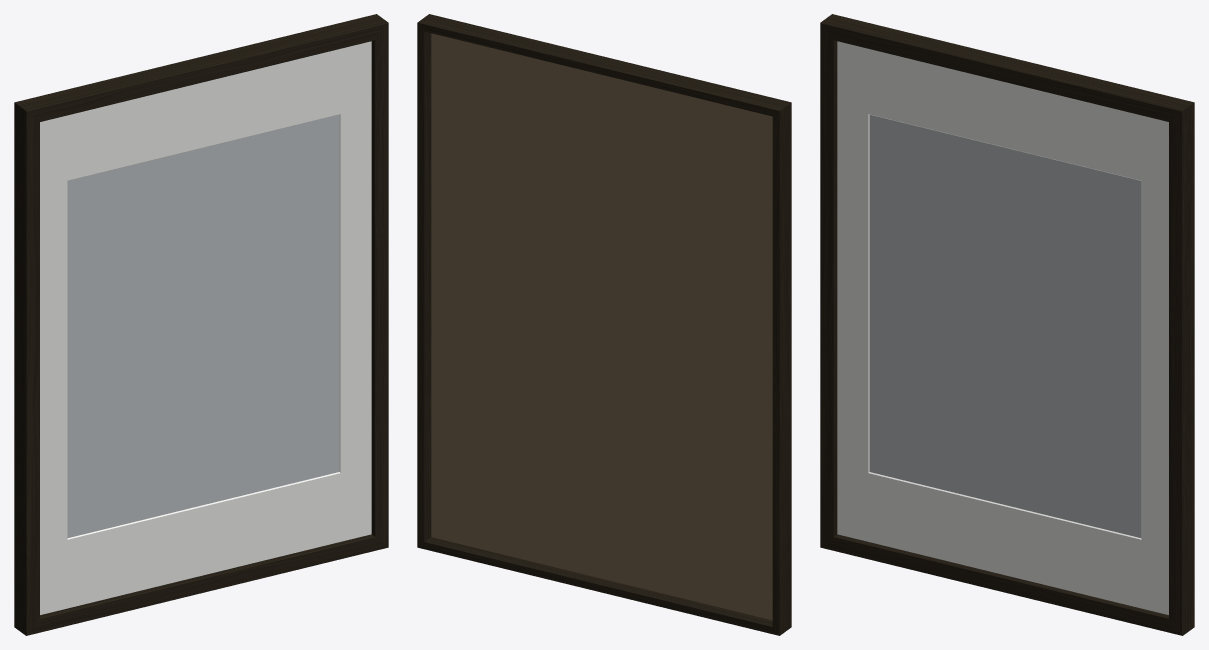
File: small_black_frame.glb
3 views of the same model, side by side, from view 1: azimuth 30°, elevation 25°; view 2: azimuth 150°, elevation 25°; view 3: azimuth 330°, elevation 25° (orthographic).
Parts seen in each view (by area): view 1: Grey_print_40x50cm, White_mat_50x70_with_39x49_clear_aperture, Left_mitred_oak_rail, Top_mitred_oak_rail, Right_mitred_oak_rail, Bottom_mitred_oak_rail; view 2: Plain_recessed_backing_assumed, Left_mitred_oak_rail, Right_mitred_oak_rail, Top_mitred_oak_rail, Bottom_mitred_oak_rail; view 3: Grey_print_40x50cm, White_mat_50x70_with_39x49_clear_aperture, Right_mitred_oak_rail, Top_mitred_oak_rail, Left_mitred_oak_rail, Bottom_mitred_oak_rail.
Boxes of the visible parts, x1=… form: Grey_print_40x50cm: x1=67, y1=115, x2=339, y2=537; White_mat_50x70_with_39x49_clear_aperture: x1=40, y1=41, x2=371, y2=614; Left_mitred_oak_rail: x1=14, y1=102, x2=39, y2=635; Top_mitred_oak_rail: x1=15, y1=14, x2=388, y2=121; Right_mitred_oak_rail: x1=371, y1=23, x2=388, y2=547; Bottom_mitred_oak_rail: x1=27, y1=534, x2=387, y2=635; Plain_recessed_backing_assumed: x1=431, y1=33, x2=772, y2=620; Left_mitred_oak_rail: x1=772, y1=102, x2=791, y2=635; Right_mitred_oak_rail: x1=417, y1=23, x2=431, y2=547; Top_mitred_oak_rail: x1=417, y1=14, x2=790, y2=116; Bottom_mitred_oak_rail: x1=418, y1=537, x2=779, y2=635; Grey_print_40x50cm: x1=869, y1=115, x2=1141, y2=537; White_mat_50x70_with_39x49_clear_aperture: x1=837, y1=41, x2=1168, y2=614; Right_mitred_oak_rail: x1=1169, y1=102, x2=1194, y2=635; Top_mitred_oak_rail: x1=820, y1=14, x2=1193, y2=121; Left_mitred_oak_rail: x1=820, y1=23, x2=837, y2=547; Bottom_mitred_oak_rail: x1=821, y1=534, x2=1181, y2=635.
Size of the model in its own units: 0.52 by 0.72 by 0.03.
Materials: 4 (1 with a texture image).
